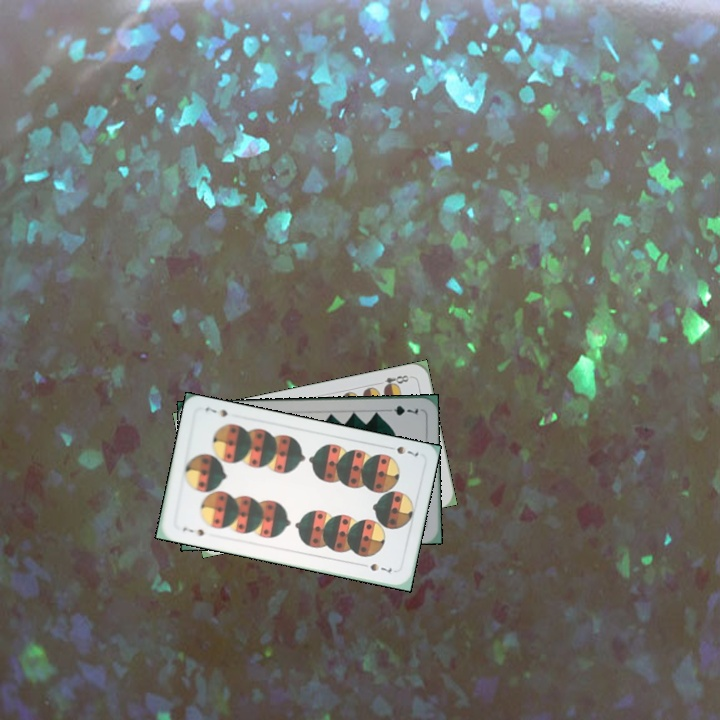E8: (374, 371, 414, 392)
G7: (381, 402, 420, 418)
S7: (382, 442, 421, 459), (179, 523, 207, 539)
